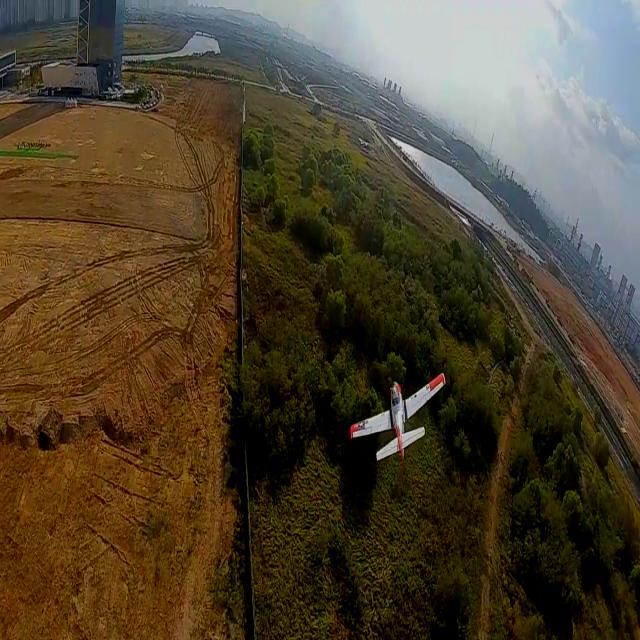iha: (378, 403, 417, 432)
